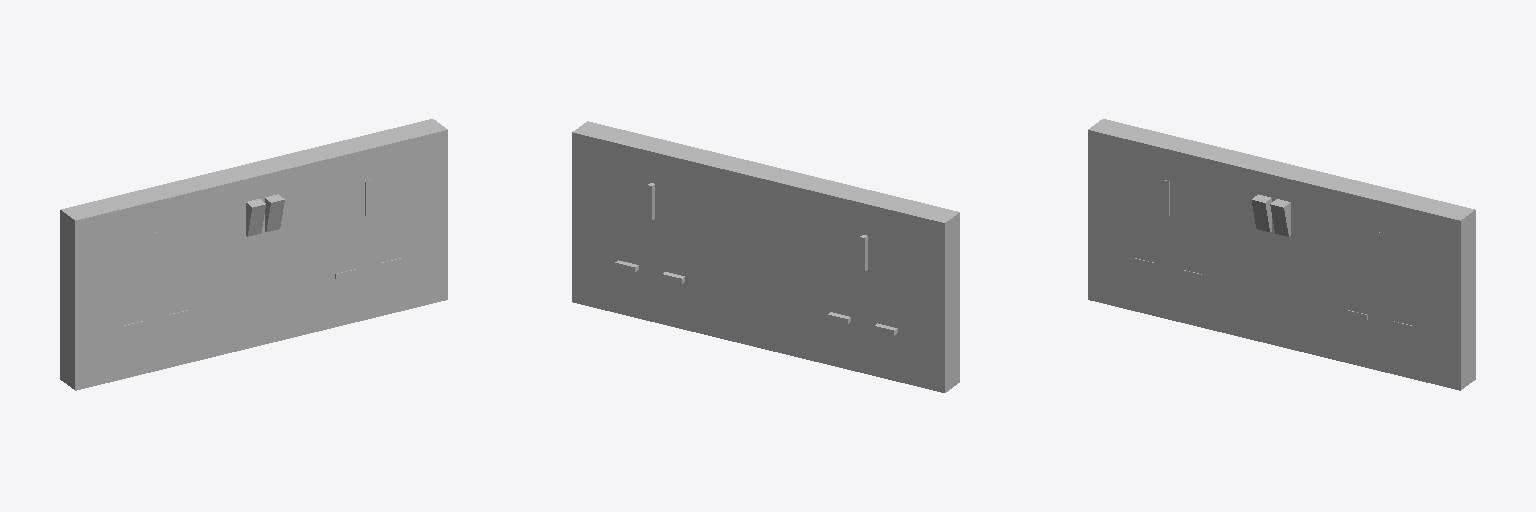
Rendered from itm_wallsocket_clean.obj.
3 renders of one model, left to right at view 1: azimuth 30°, elevation 25°; view 2: azimuth 150°, elevation 25°; view 3: azimuth 330°, elevation 25°, orthographic.
Parts seen in each view (by area): view 1: itm_wallsocket_clean; view 2: itm_wallsocket_clean; view 3: itm_wallsocket_clean.
Boxes of the visible parts, x1=… form: itm_wallsocket_clean: x1=60, y1=119, x2=447, y2=390; itm_wallsocket_clean: x1=572, y1=121, x2=959, y2=392; itm_wallsocket_clean: x1=1088, y1=119, x2=1475, y2=390.
Bounding box in the file's own units: 2.29 × 1 × 0.2666.